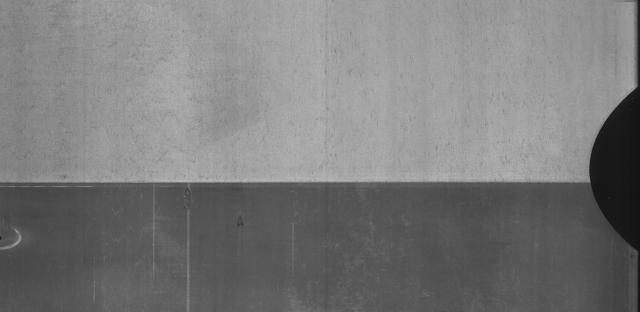welding_line: (1, 170, 601, 196)
